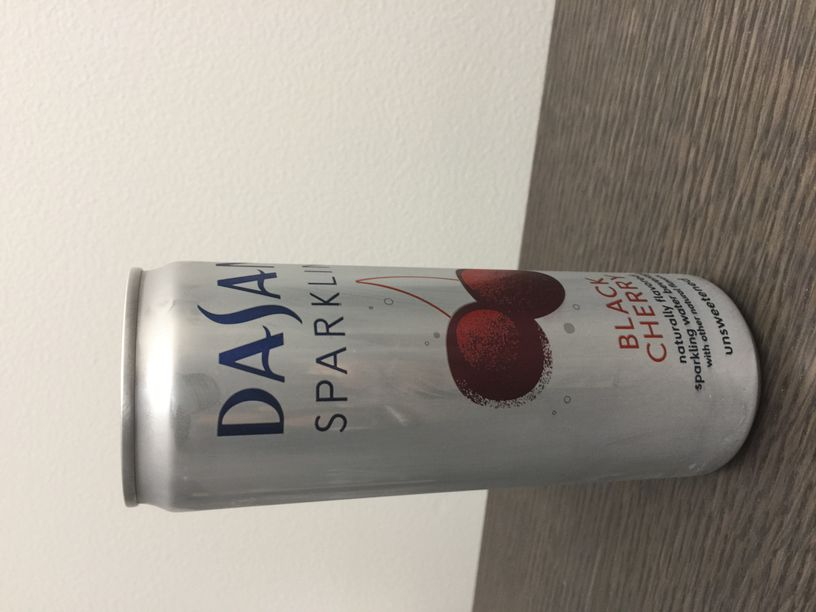blackcherry: (104, 251, 776, 522)
